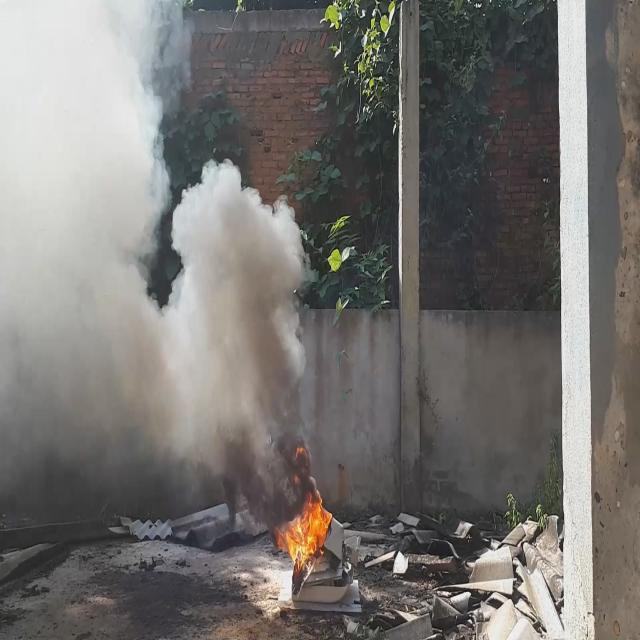Fire: (270, 460, 336, 578)
Smoke: (0, 0, 310, 512)
